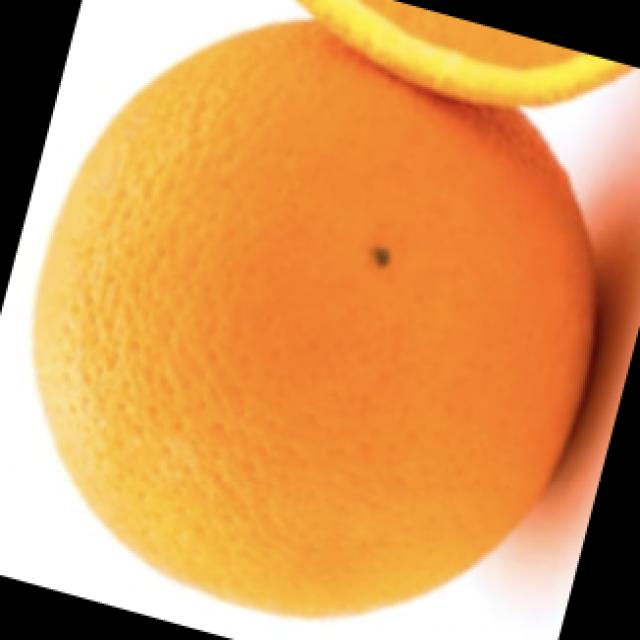fresh: (27, 17, 618, 626)
